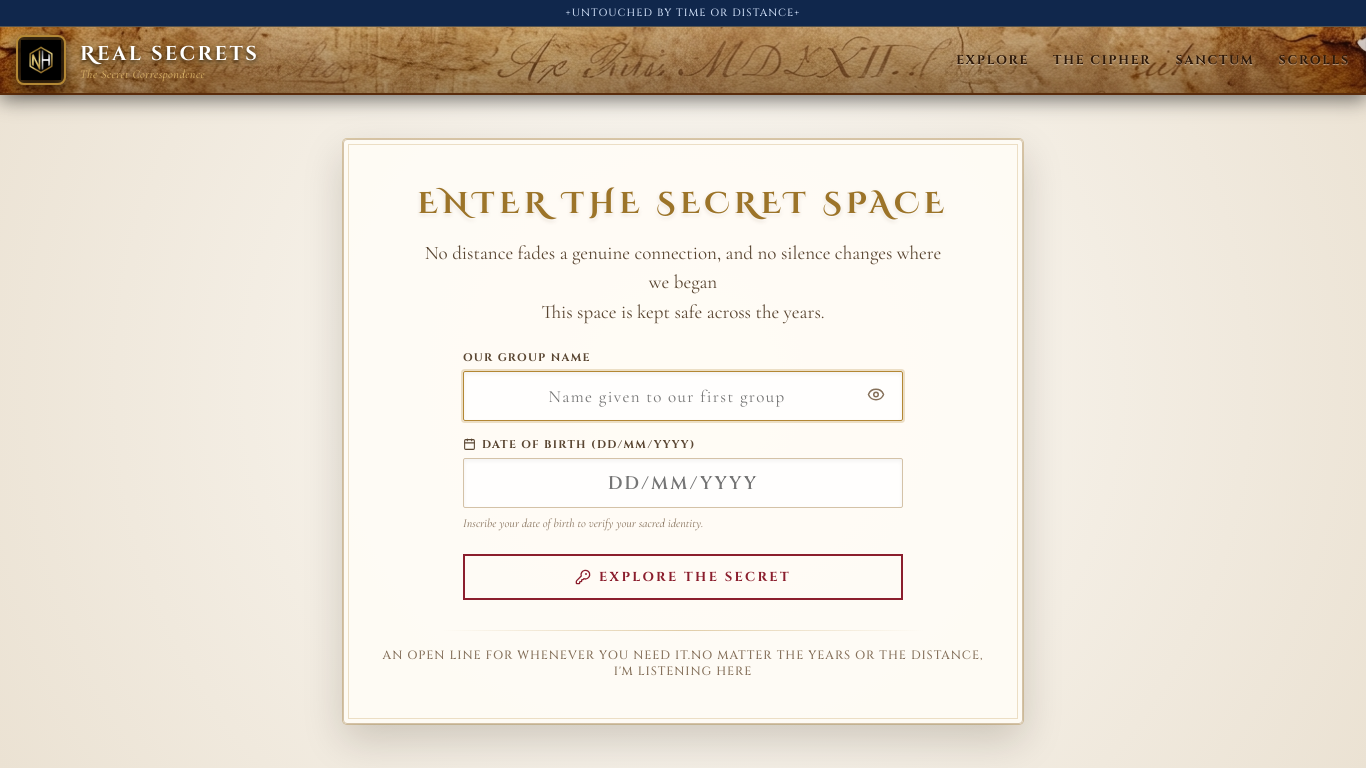
Test: Realsecrets Date-of-Birth Identity Flow › automatically unlocks chat directly when DOB is 02/05/2007 and removes Profile labels & unwanted controls
Type "bepositive" into the password field with id "secret-code-input". click: (683, 396)
box: [463, 371, 903, 421]
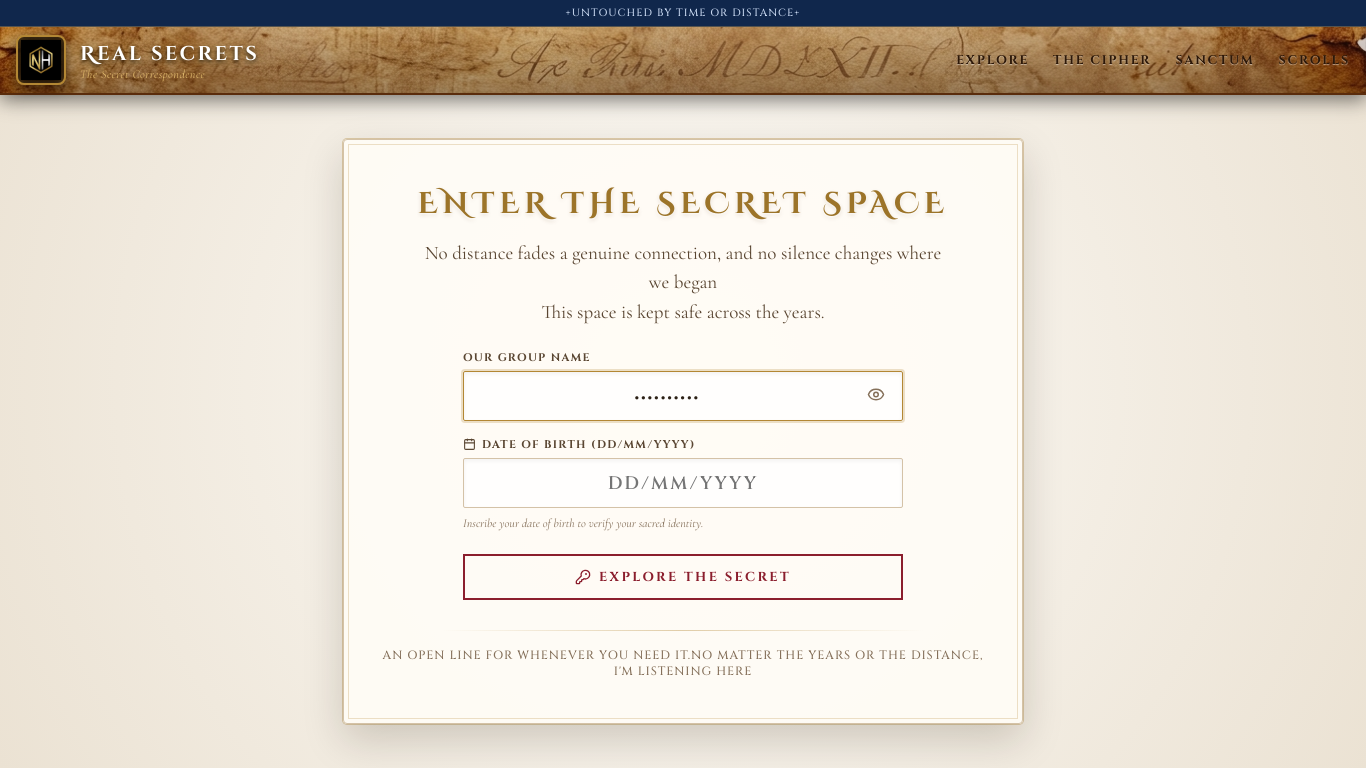
Type "02/05/2007" into the field with id "dob-input". click: (683, 483)
box: [463, 458, 903, 508]
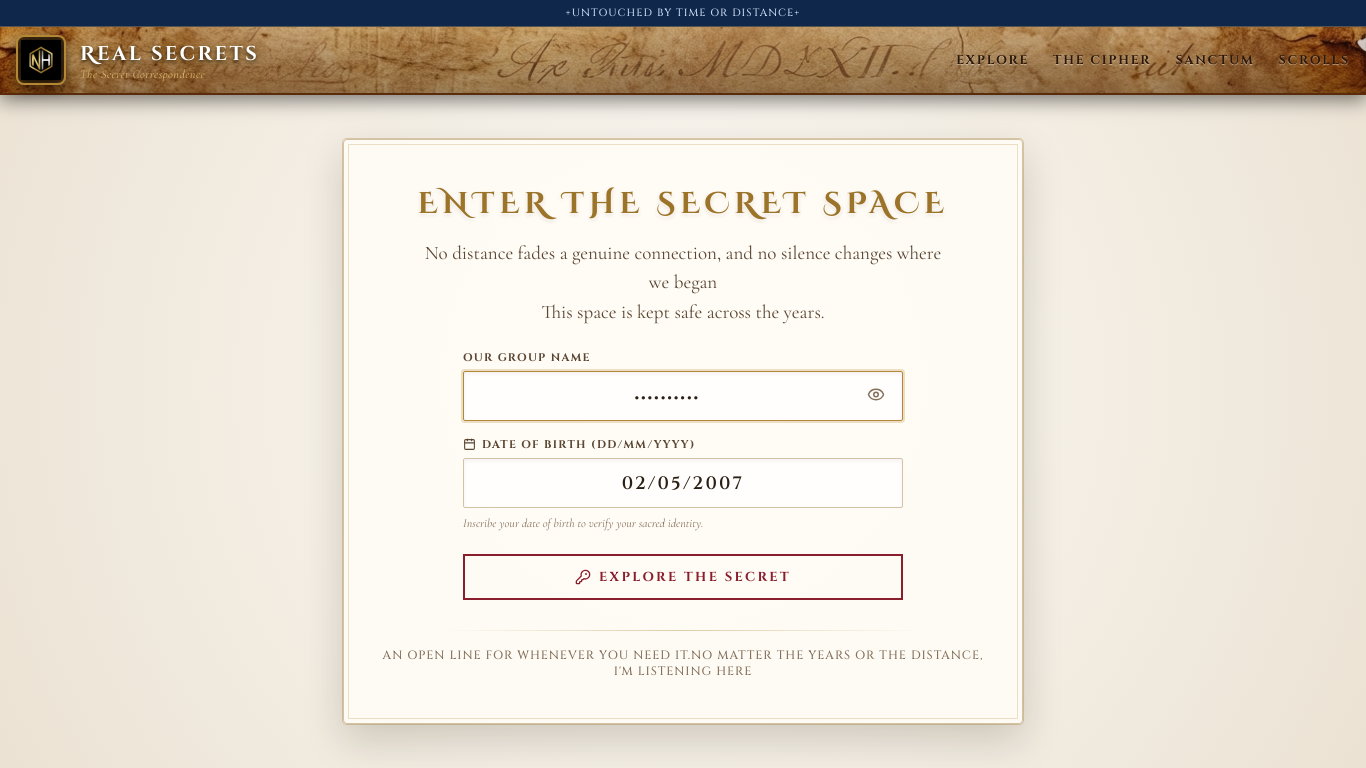
Click the button with id "continue-button". click: (683, 577)
box: [463, 554, 903, 600]
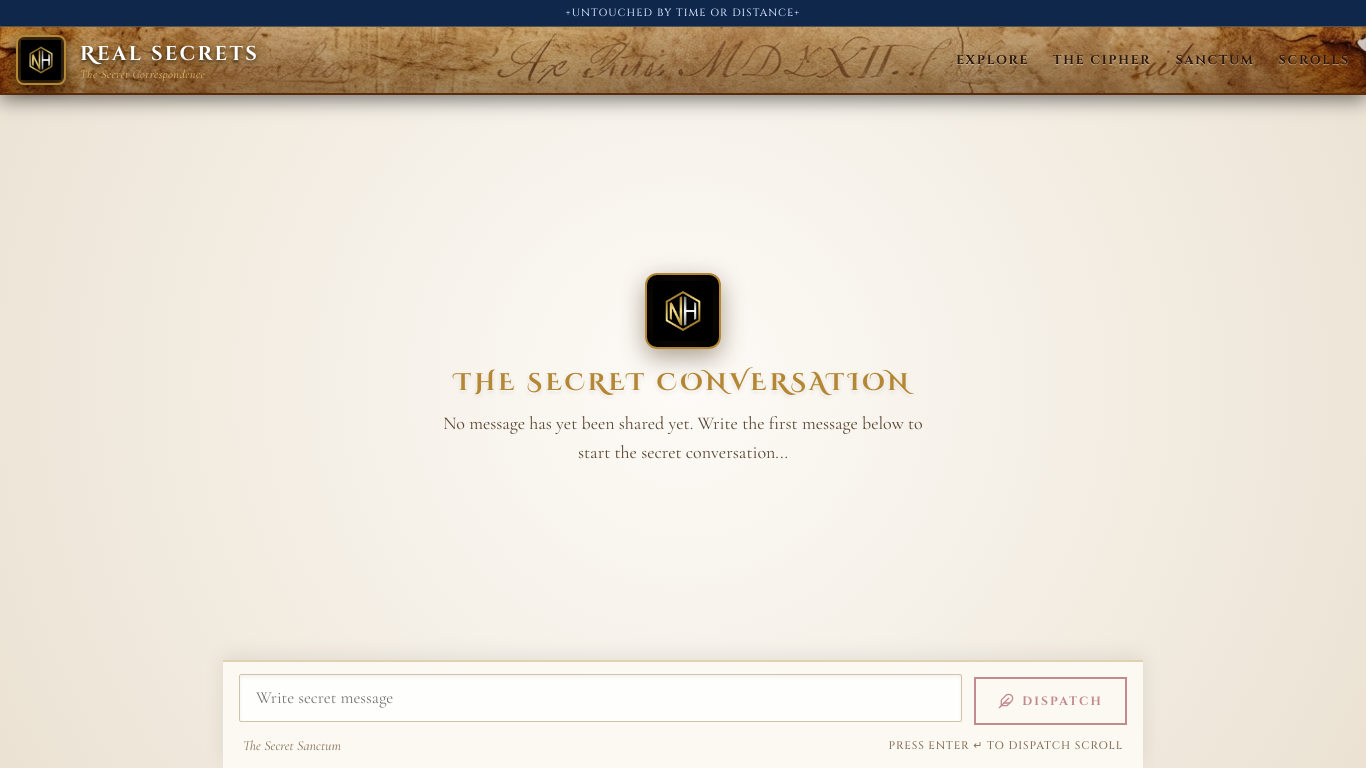
Expected: the element that starts with "Real secrets" is shown, [0, 27, 1365, 95]
Expected: the text box with id "message-input" is shown, [239, 674, 962, 722]
